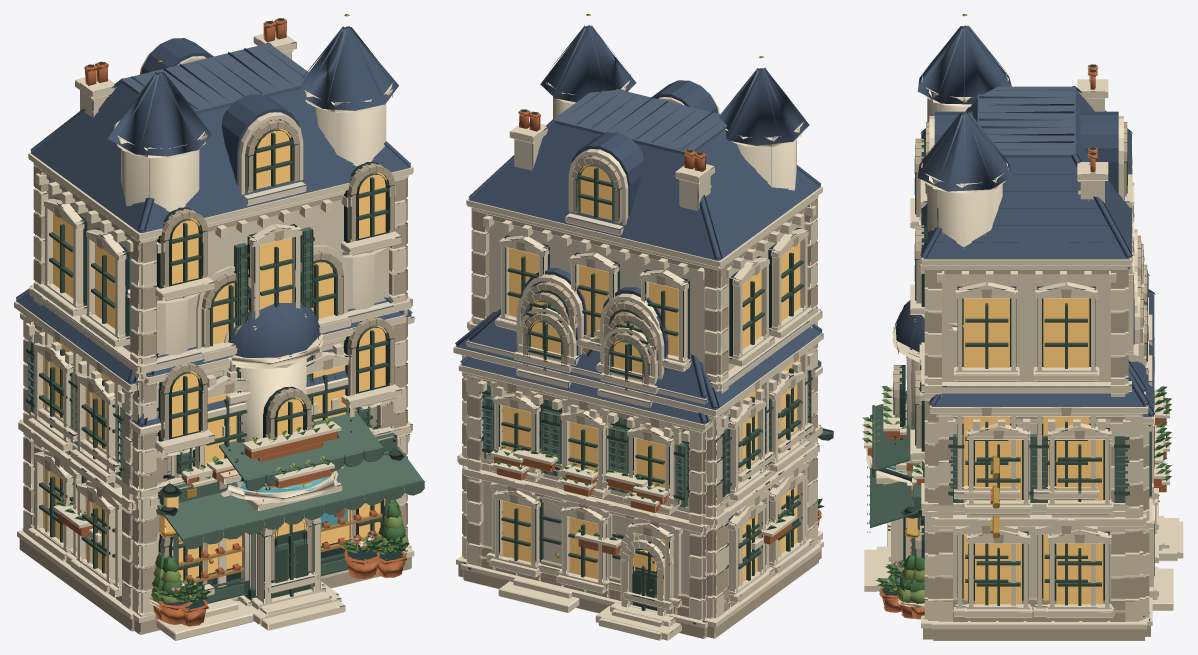
Rendered from classic.glb.
3 renders of one model, left to right at view 1: azimuth 30°, elevation 25°; view 2: azimuth 150°, elevation 25°; view 3: azimuth 270°, elevation 25°, orthographic. The views are drawn at different scales.
Visible parts, largest first — view 1: classic_villa_3_geometry, classic_villa_3_geometry ceramic, classic_shop_2_geometry, classic_hotel_2_geometry, classic_tower_2_geometry, classic_junction_hub_geometry, classic_tower_2_geometry ceramic, classic_hotel_2_geometry ceramic, classic_shop_2_geometry ceramic, classic_junction_hub_geometry ceramic; view 2: classic_villa_3_geometry, classic_tower_2_geometry, classic_villa_3_geometry ceramic, classic_hotel_2_geometry, classic_shop_2_geometry, classic_junction_hub_geometry, classic_shop_2_geometry ceramic, classic_hotel_2_geometry ceramic, classic_tower_2_geometry ceramic; view 3: classic_villa_3_geometry, classic_hotel_2_geometry, classic_villa_3_geometry ceramic, classic_tower_2_geometry, classic_shop_2_geometry, classic_hotel_2_geometry ceramic, classic_junction_hub_geometry, classic_tower_2_geometry ceramic.
Boxes of the visible parts, x1=… form: classic_villa_3_geometry: x1=28, y1=14, x2=414, y2=634; classic_villa_3_geometry ceramic: x1=30, y1=26, x2=411, y2=233; classic_shop_2_geometry: x1=143, y1=245, x2=424, y2=626; classic_hotel_2_geometry: x1=14, y1=301, x2=414, y2=631; classic_tower_2_geometry: x1=20, y1=312, x2=406, y2=630; classic_junction_hub_geometry: x1=39, y1=310, x2=384, y2=640; classic_tower_2_geometry ceramic: x1=138, y1=302, x2=343, y2=397; classic_hotel_2_geometry ceramic: x1=16, y1=289, x2=412, y2=384; classic_shop_2_geometry ceramic: x1=146, y1=297, x2=405, y2=377; classic_junction_hub_geometry ceramic: x1=26, y1=336, x2=347, y2=427; classic_villa_3_geometry: x1=466, y1=14, x2=823, y2=632; classic_tower_2_geometry: x1=458, y1=307, x2=816, y2=640; classic_villa_3_geometry ceramic: x1=468, y1=25, x2=820, y2=260; classic_hotel_2_geometry: x1=453, y1=286, x2=823, y2=640; classic_shop_2_geometry: x1=466, y1=274, x2=833, y2=635; classic_junction_hub_geometry: x1=498, y1=330, x2=824, y2=633; classic_shop_2_geometry ceramic: x1=468, y1=268, x2=708, y2=398; classic_hotel_2_geometry ceramic: x1=455, y1=281, x2=822, y2=410; classic_tower_2_geometry ceramic: x1=460, y1=308, x2=711, y2=424; classic_villa_3_geometry: x1=881, y1=14, x2=1138, y2=639; classic_hotel_2_geometry: x1=866, y1=244, x2=1179, y2=640; classic_villa_3_geometry ceramic: x1=917, y1=25, x2=1132, y2=259; classic_tower_2_geometry: x1=862, y1=261, x2=1183, y2=636; classic_shop_2_geometry: x1=867, y1=229, x2=1177, y2=618; classic_hotel_2_geometry ceramic: x1=928, y1=273, x2=1149, y2=406; classic_junction_hub_geometry: x1=872, y1=391, x2=1173, y2=610; classic_tower_2_geometry ceramic: x1=894, y1=289, x2=1155, y2=417.
Bounding box in the file's own units: 1.04 × 1.76 × 0.99.
